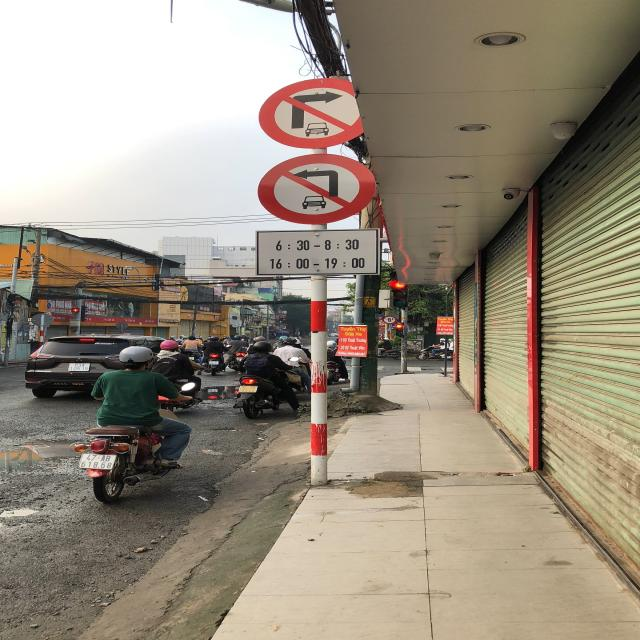Bien bao cam xe o to re phai: (247, 73, 378, 147)
Bien bao cam xe o to re trai: (245, 152, 385, 226)
